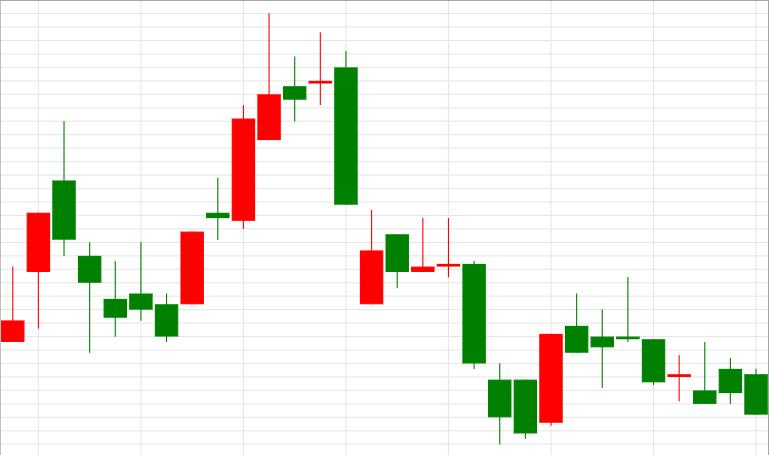inverse_hammer_rise: (52, 121, 152, 354)
shooting_star_fall: (180, 14, 281, 305)
